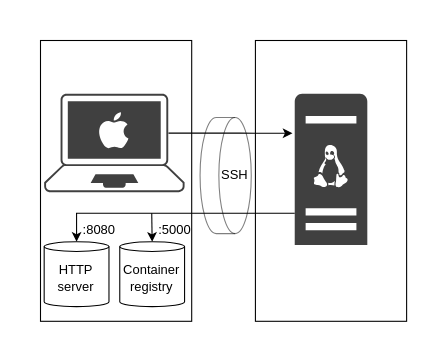
This 447x361 diagram has some shape labels left out. The shapes that lost their labels are listed below. From the top down, each one's box as (x1, y1, x2, y2) in pixels, then its label:
(39, 39, 192, 321): Client (MacOS)
(254, 39, 407, 321): Server (RHEL8)
